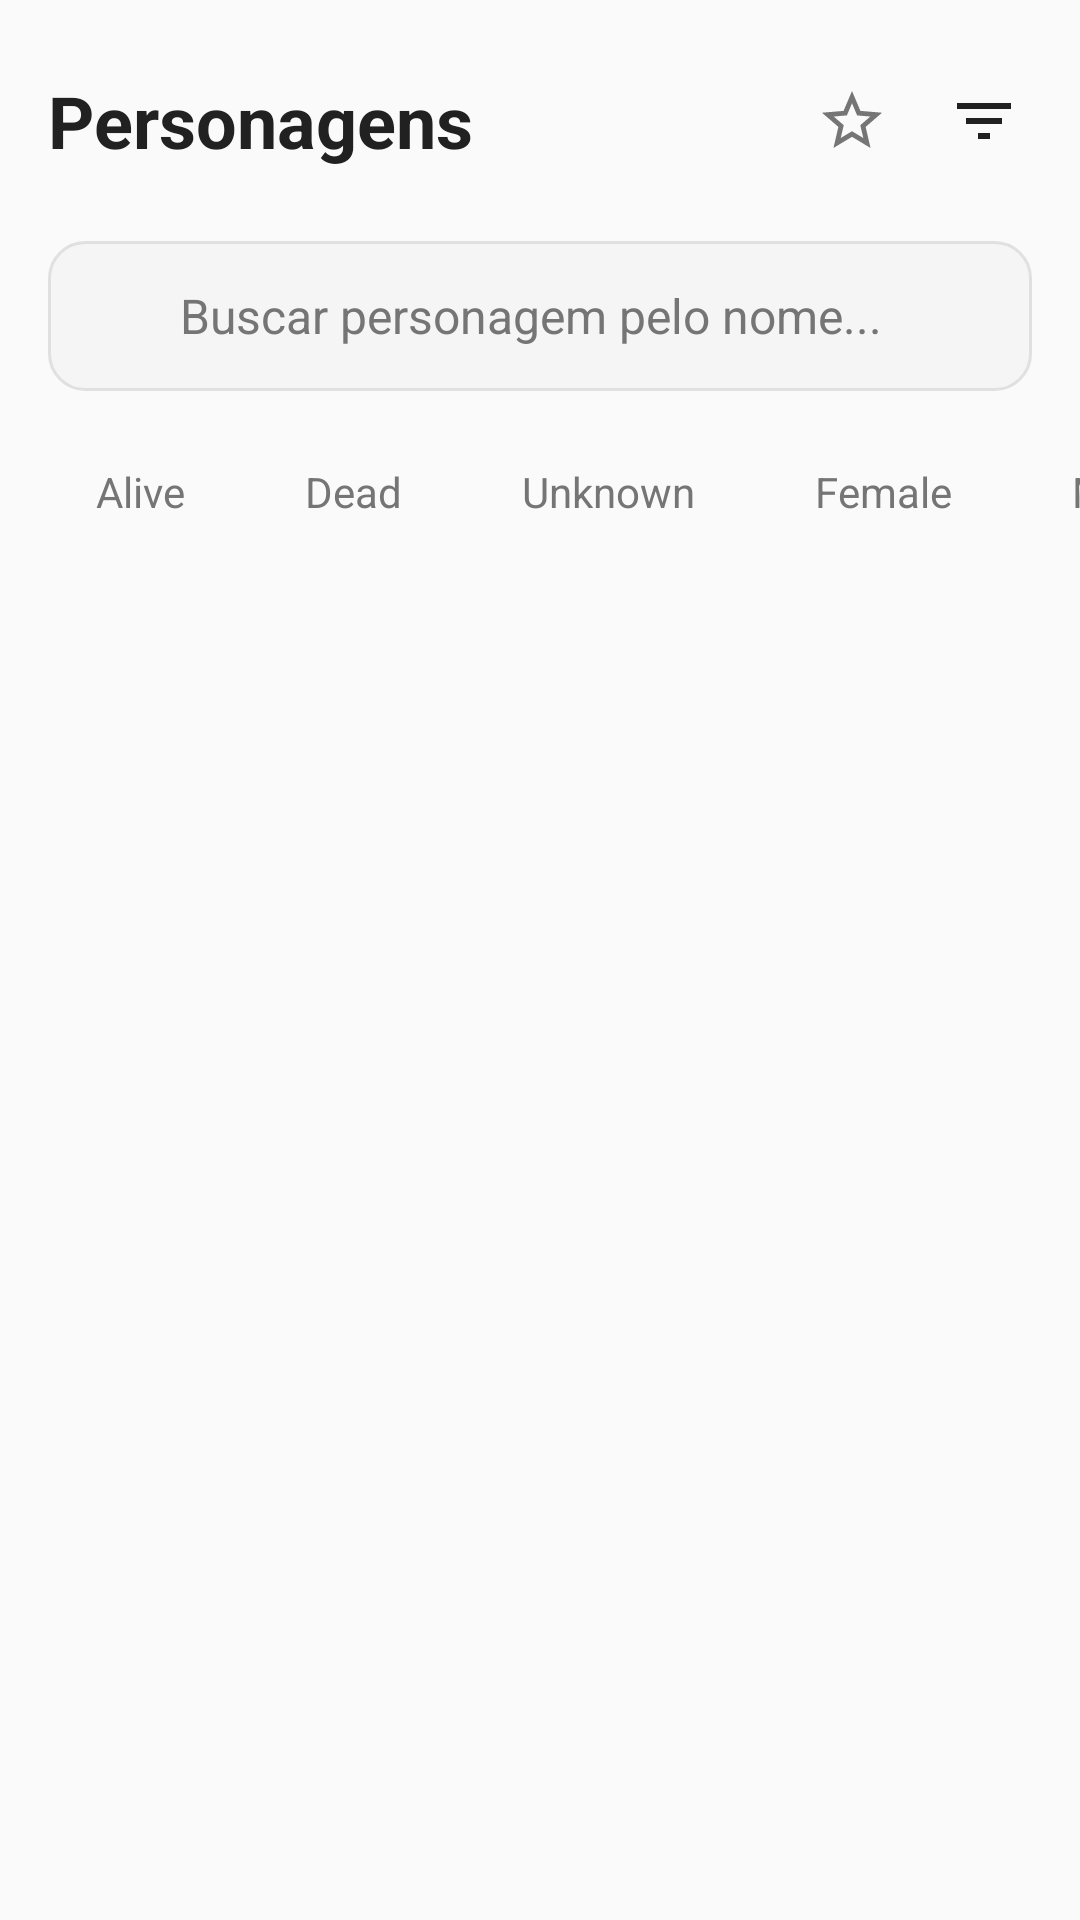

Where to tap for icons on this 1080w x 1920h app screen, as (x,y):
filter: (984,121)
star: (852,119)
